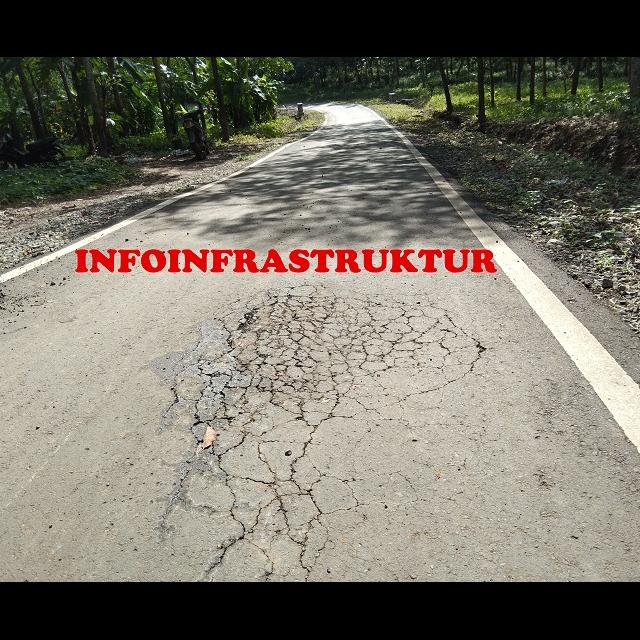retak_kulit_buaya: (179, 381, 341, 582), (227, 287, 475, 405)
